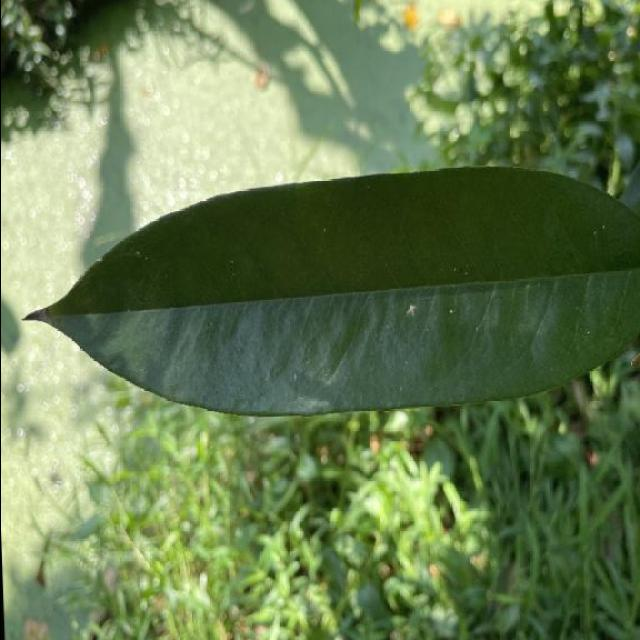No Disease: (16, 147, 640, 431)
